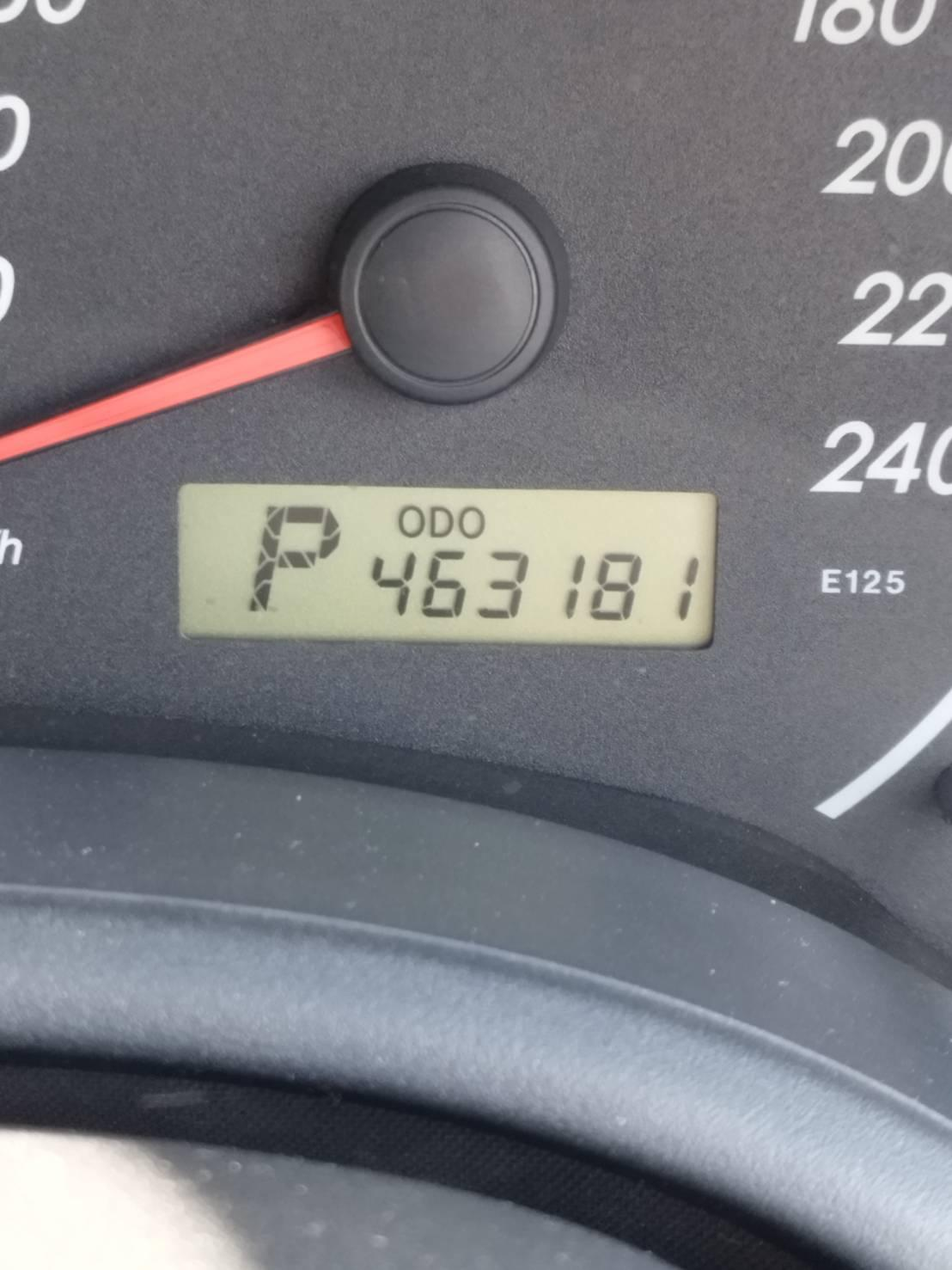1: (673, 554, 703, 623), (559, 551, 587, 620)
3: (474, 550, 530, 620)
4: (366, 548, 417, 617)
6: (421, 549, 469, 620)
8: (588, 549, 641, 624)
X: (238, 502, 345, 613), (457, 505, 488, 540), (397, 504, 426, 538), (428, 504, 455, 538)
odometer: (175, 479, 719, 655)
